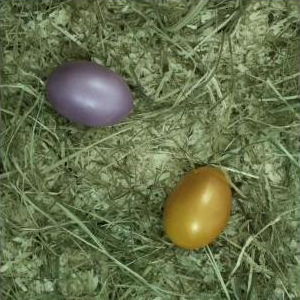egg: (161, 165, 233, 250), (47, 60, 134, 128)
